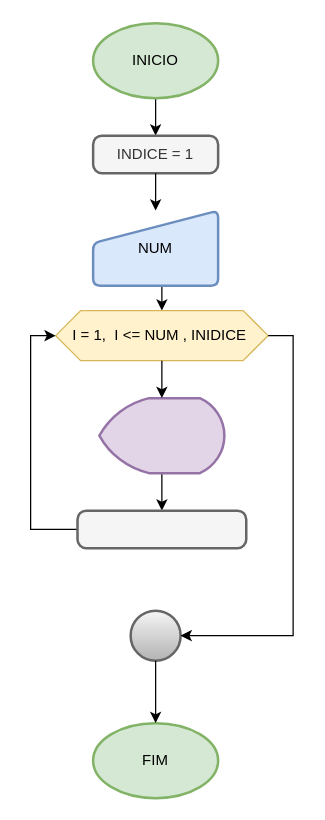
This 325x820 diagram has some shape labels left out. The centre of each missing label's shape, as x and y in pixels:
INDICE: the point at 161,435
INDICE = INDICE * 2: the point at 161,529
